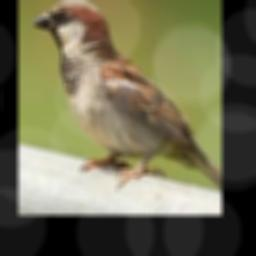Sparrow: (33, 0, 222, 191)
